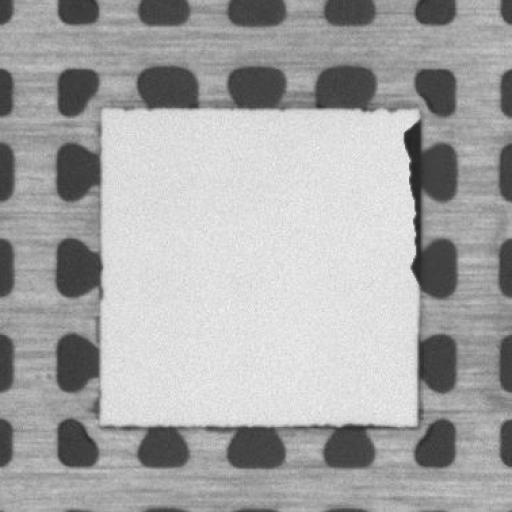DIE_BROKEN: (398, 116, 423, 282)
